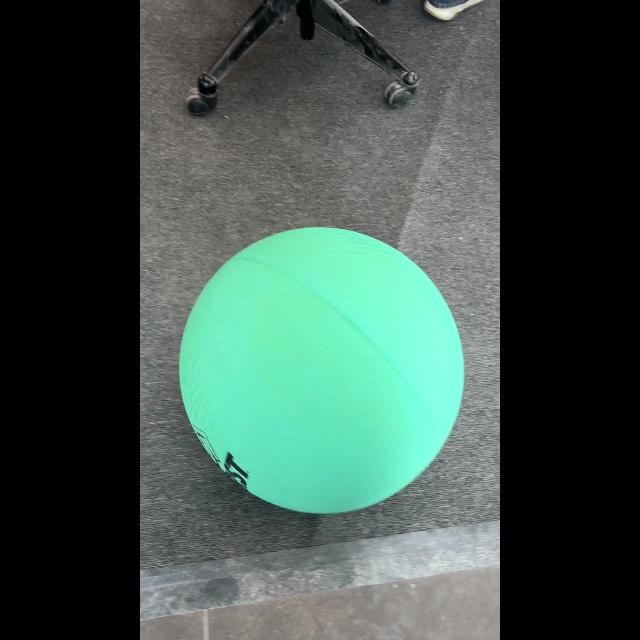ALGAE: (178, 225, 466, 515)
